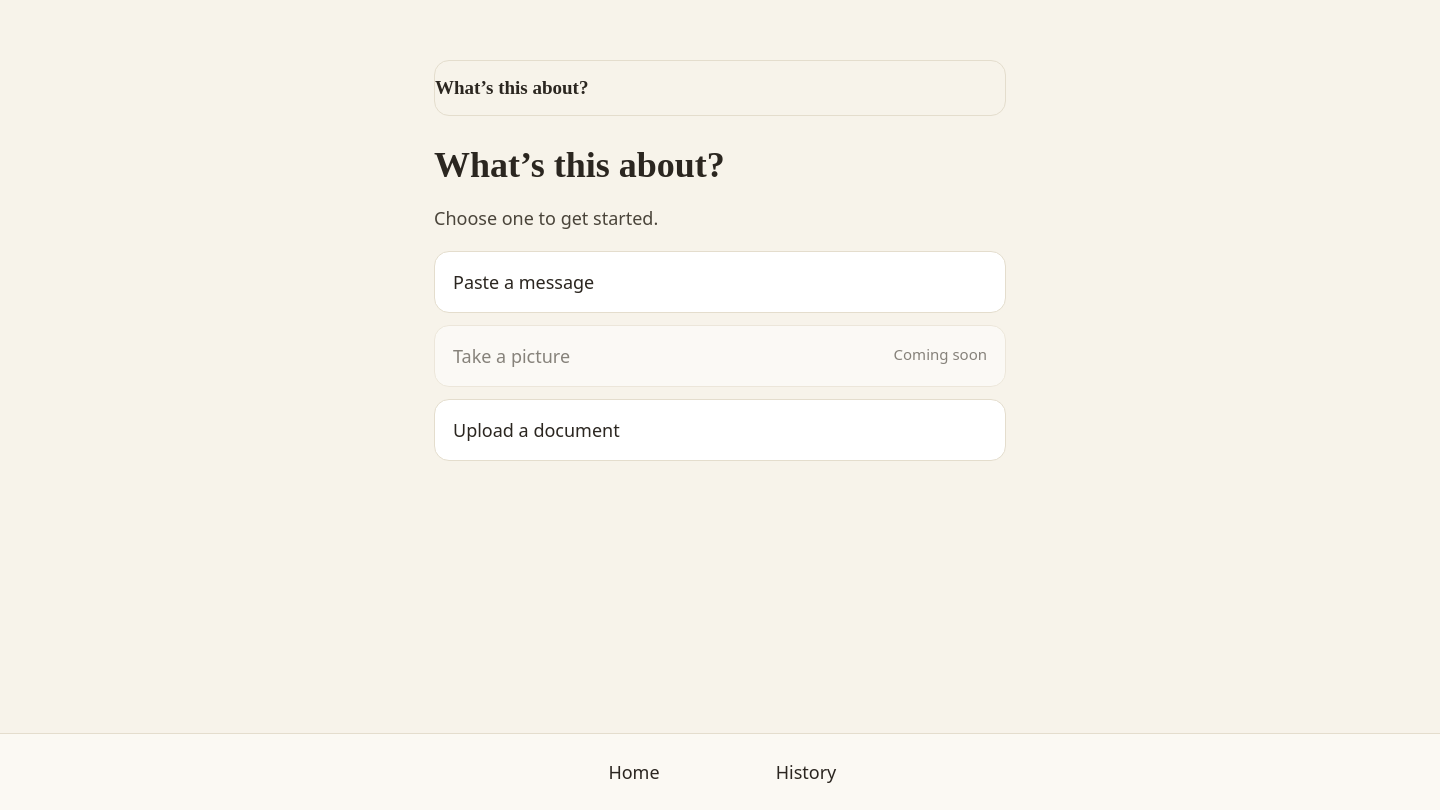
Test case: shows safety guidance as text and keeps only operations clickable
Click the button "Paste a message".
click(524, 282)  # box [434,251,1006,313]
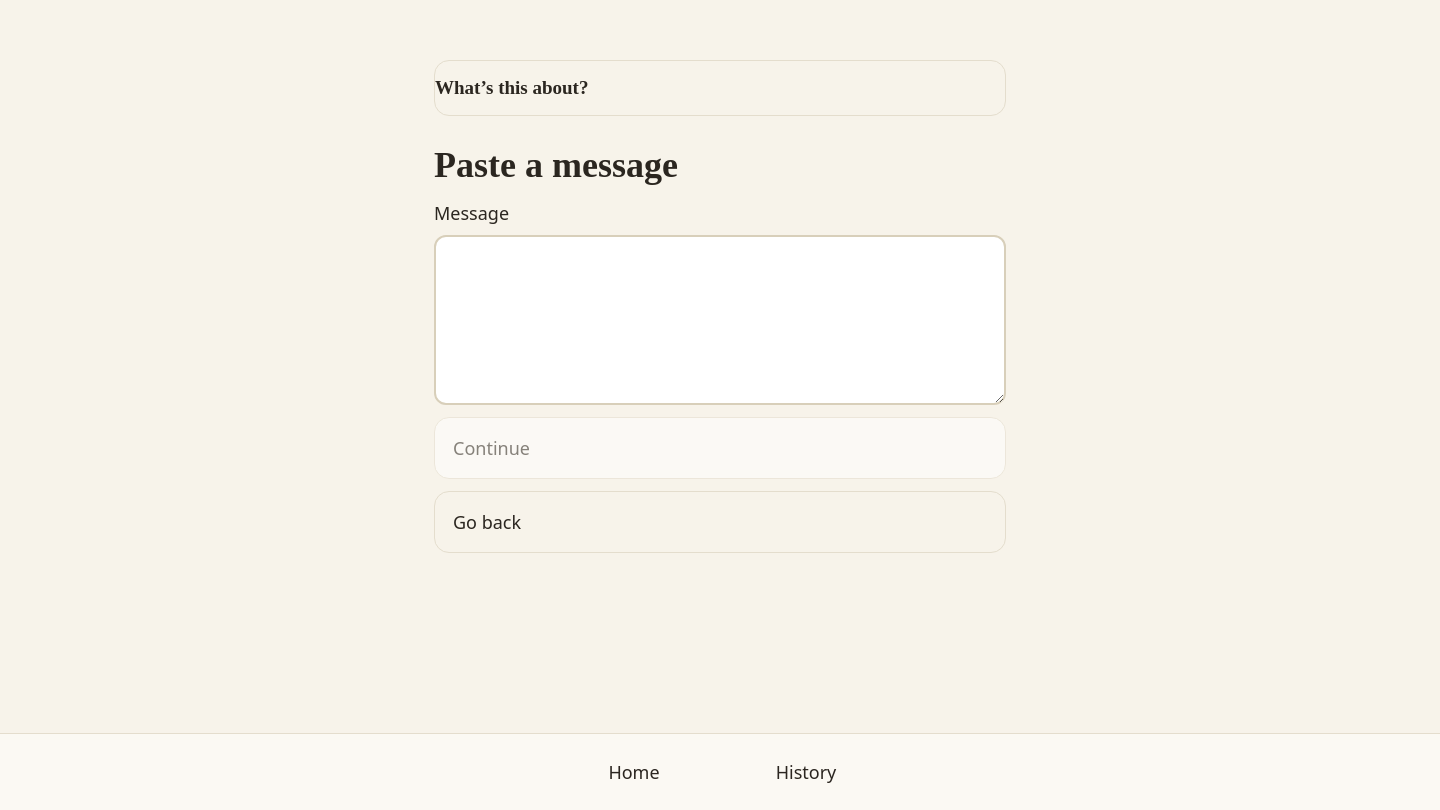
Type "Please send money." into the text box labelled "Message".
click(720, 320); type("Please send money.")  # box [434,235,1006,405]
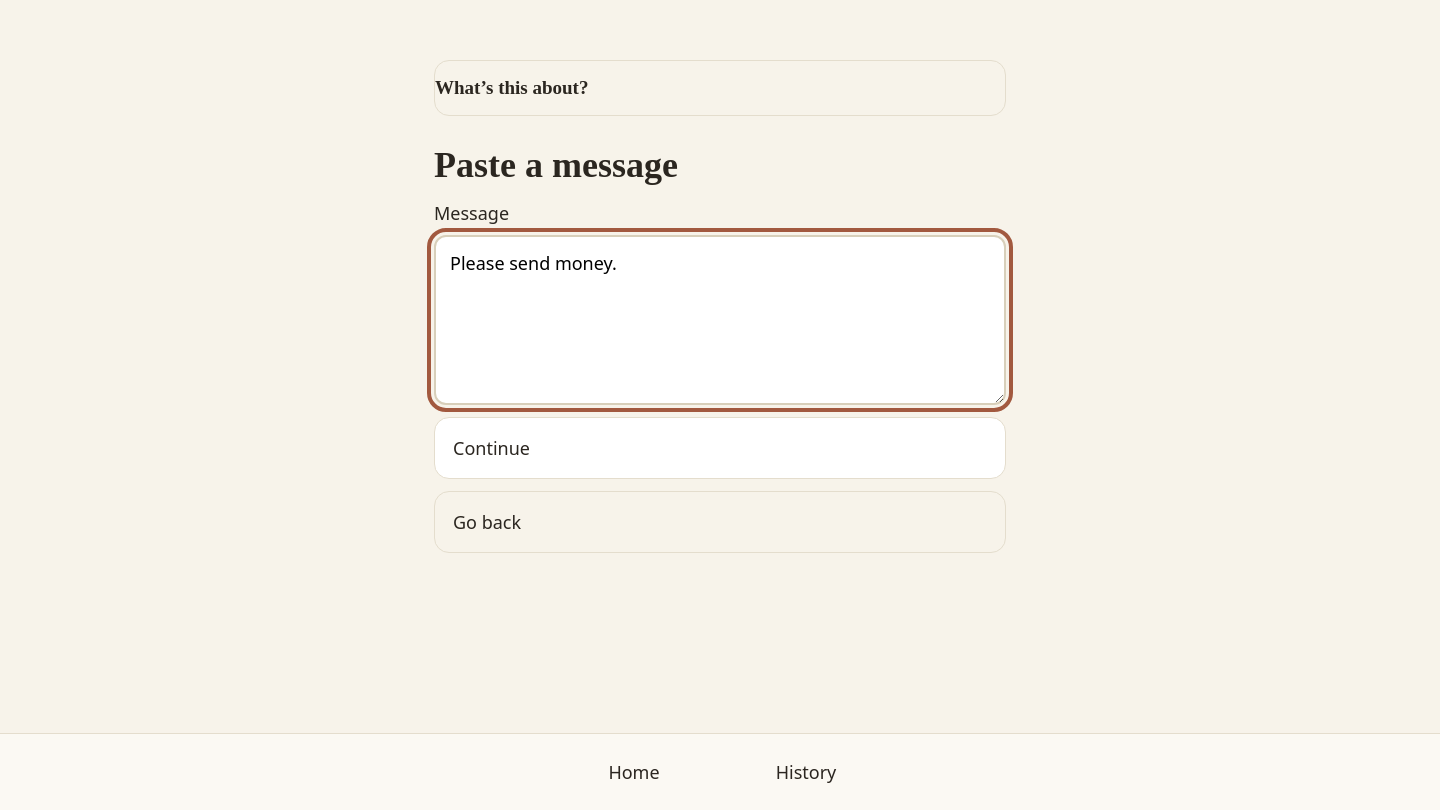
Click the button "Continue".
click(491, 448)  # box [434,417,1006,479]
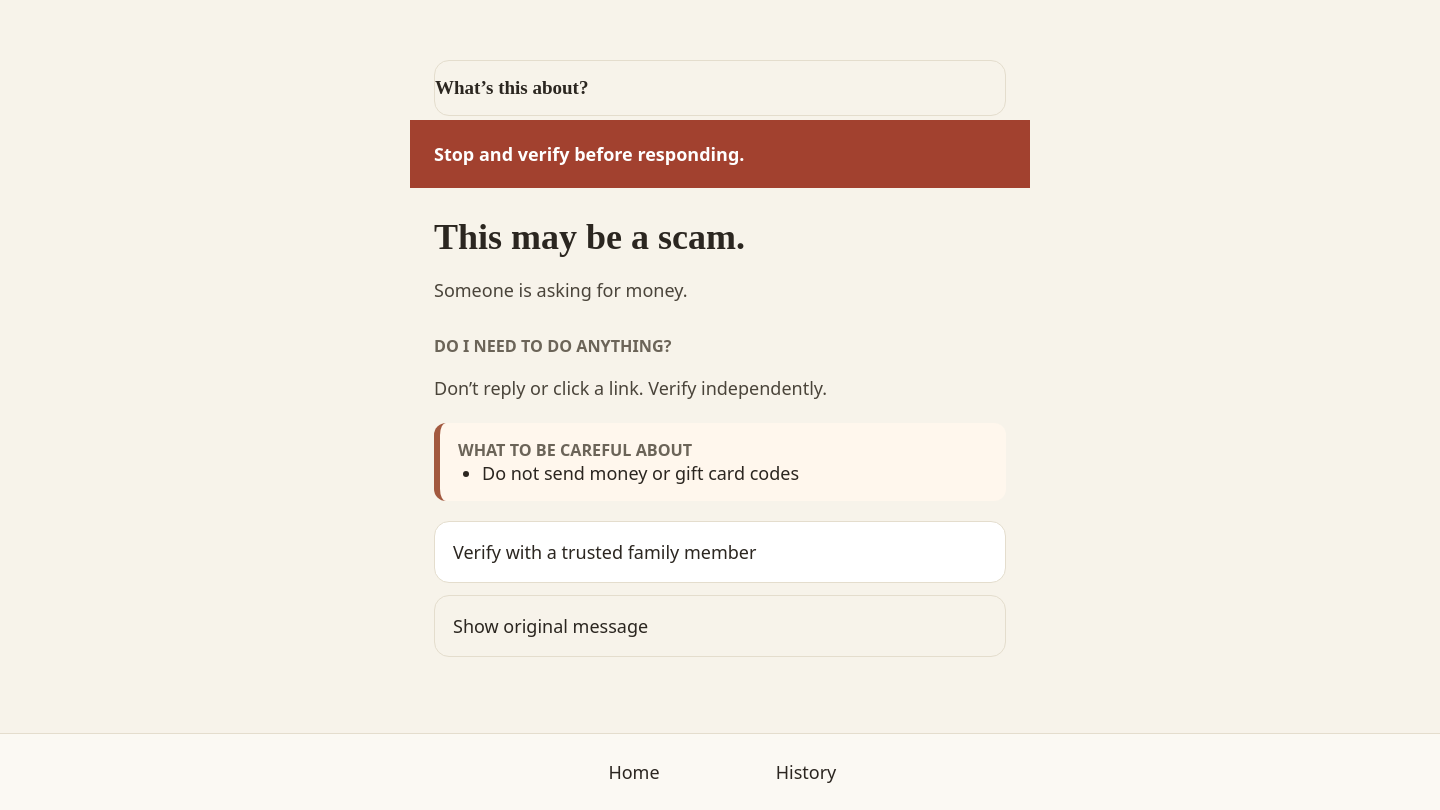
Now the list item "Do not send money or gift card codes" is shown, box [482,461,799,485]
Click the button "Verify with a trusted family member".
click(720, 552)  # box [434,521,1006,583]
(page scrolled)
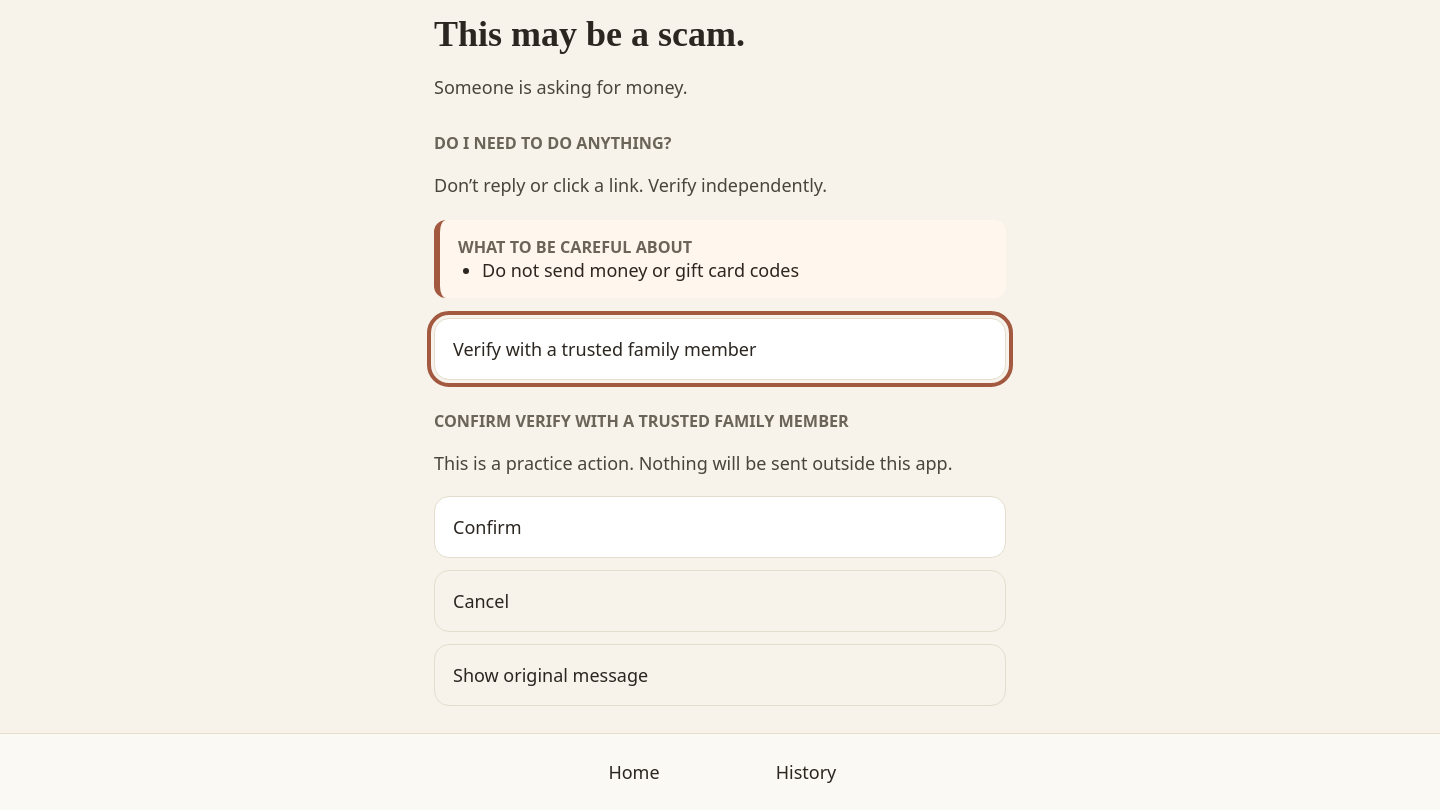
Now the dialog named "Confirm action" is shown, box [434,410,1006,632]
